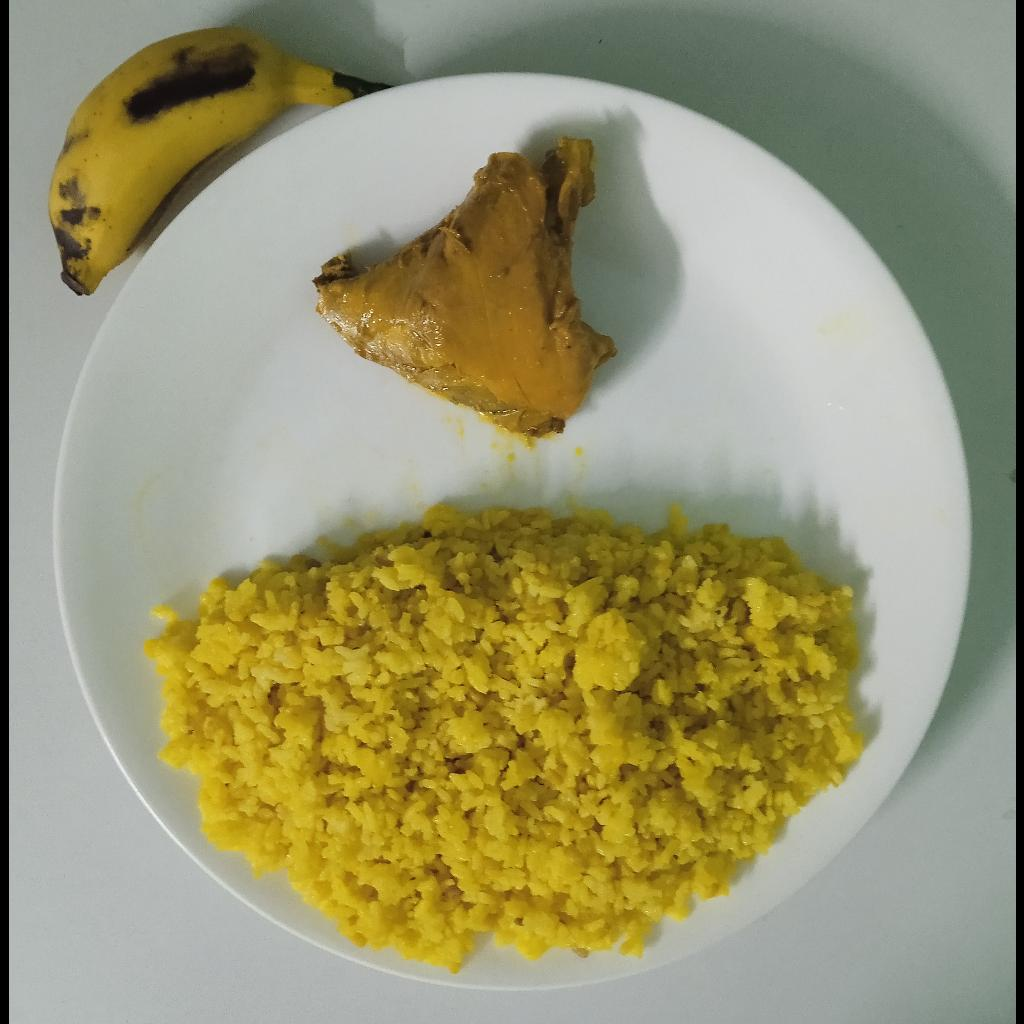banana: (46, 25, 394, 297)
chicken: (314, 135, 621, 437)
khichuri: (140, 501, 865, 966)
